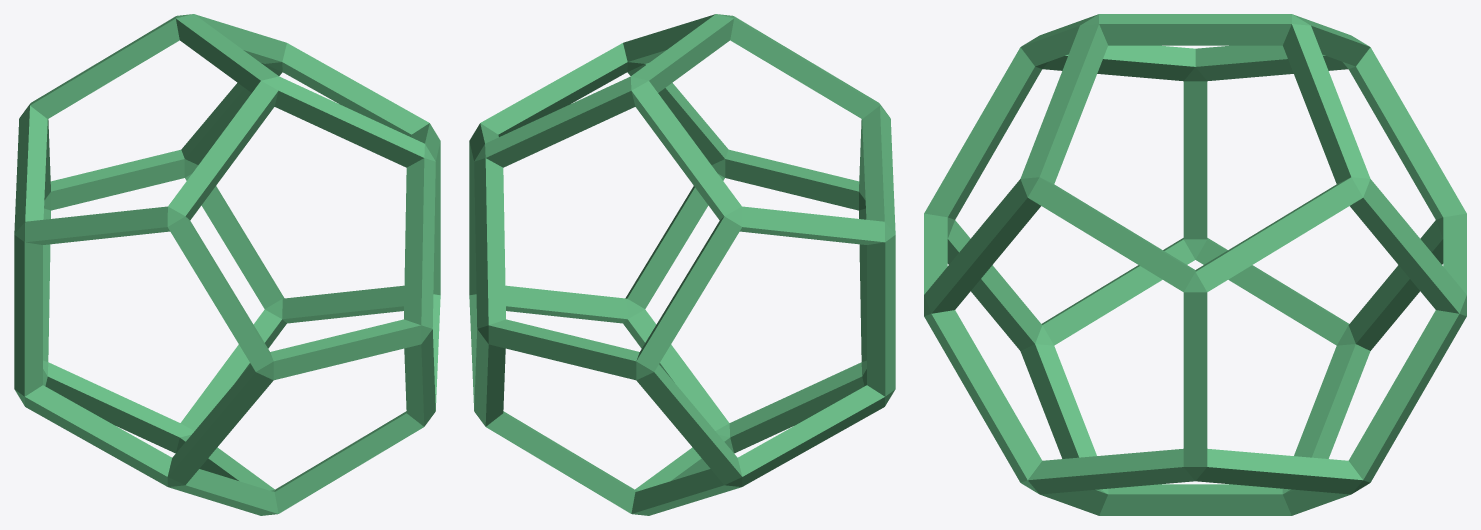
Rendered from DODECA_01.fbx.
The picture shows the model from 3 angles, left to right: view 1: azimuth 30°, elevation 25°; view 2: azimuth 150°, elevation 25°; view 3: azimuth 270°, elevation 25°; orthographic projection. The views are drawn at different scales.
Visible parts, largest first — view 1: DODECA_FINAL; view 2: DODECA_FINAL; view 3: DODECA_FINAL.
Part boxes in pixels (x1=…): DODECA_FINAL: x1=14, y1=14, x2=440, y2=515; DODECA_FINAL: x1=469, y1=14, x2=895, y2=515; DODECA_FINAL: x1=924, y1=14, x2=1466, y2=515.
Size of the model in its own units: 0.0316 by 0.0316 by 0.0316.
